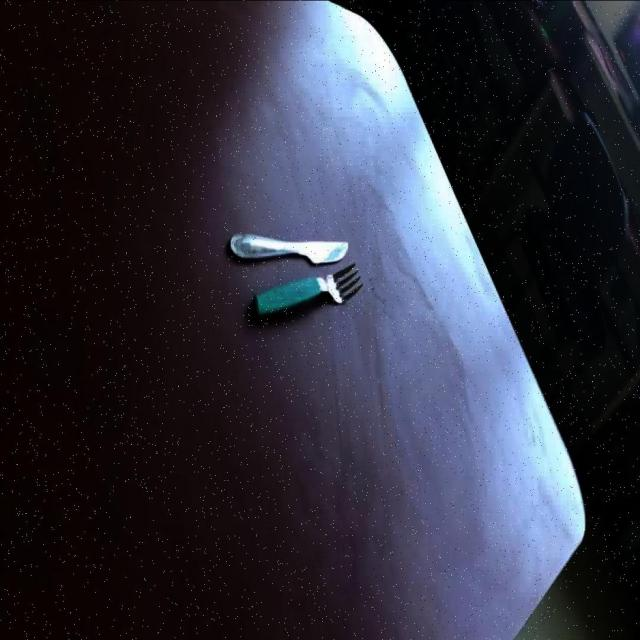Fork: (250, 261, 362, 316)
Knife: (229, 231, 348, 263)
